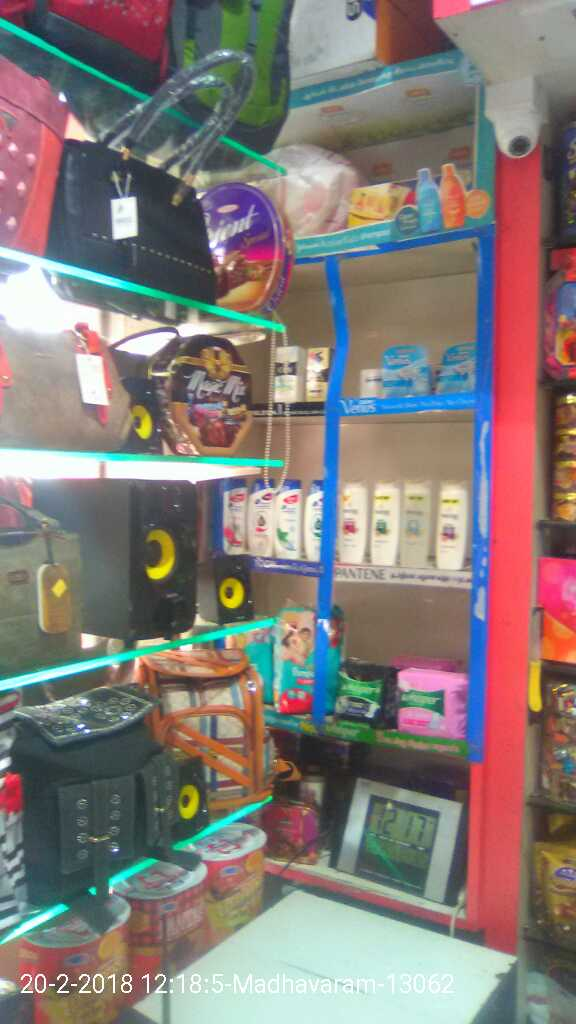venus: (386, 343, 434, 390), (434, 339, 478, 390)
